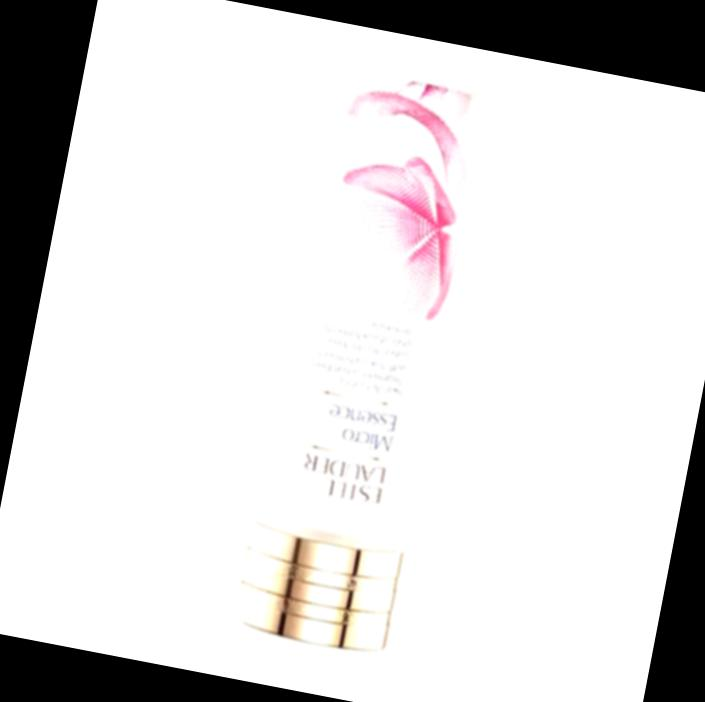cosmetic: (235, 67, 484, 650)
